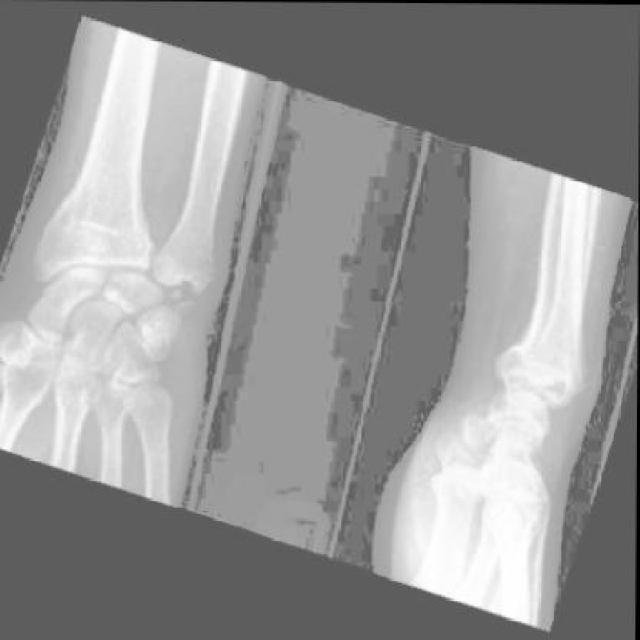Fracture: (51, 191, 165, 255), (500, 334, 598, 393), (168, 279, 212, 324), (575, 377, 597, 400)
